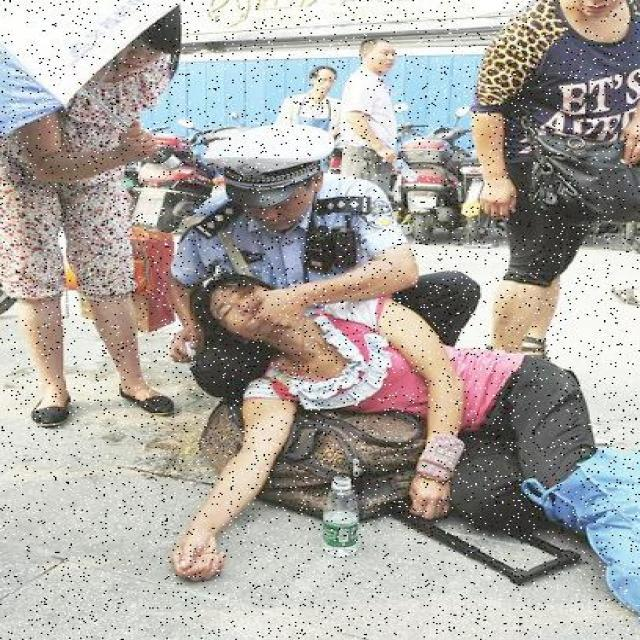fall: (194, 282, 582, 558)
